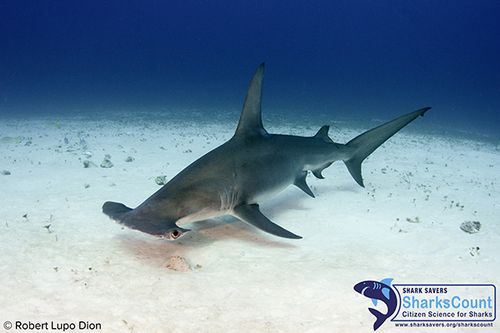Hammer: (87, 48, 439, 259)
